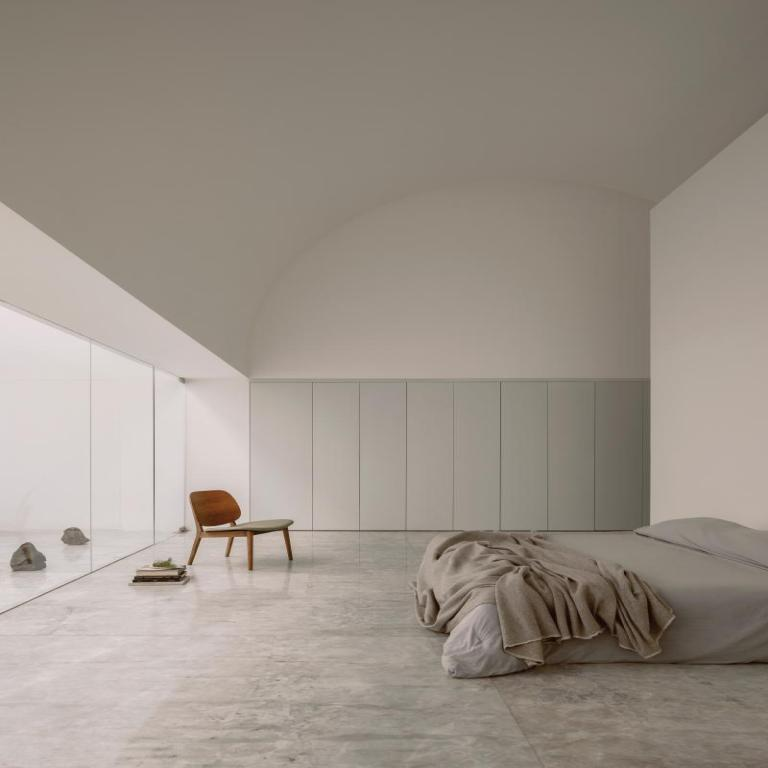white-walls: (14, 39, 739, 481)
